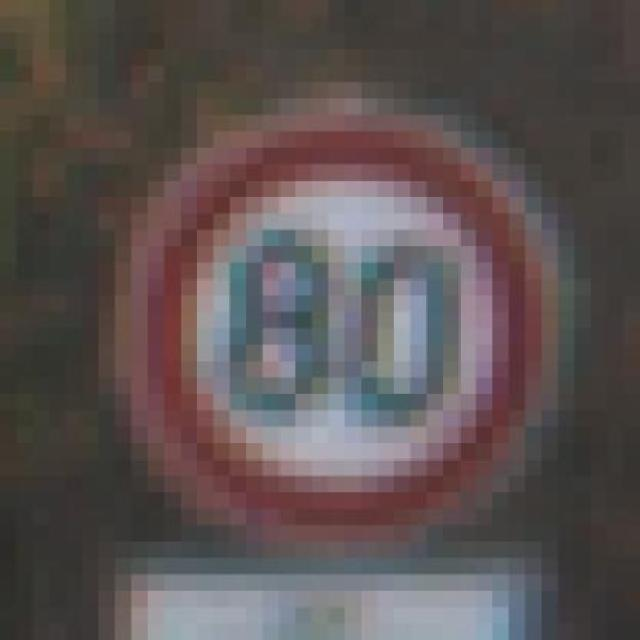forb_speed_over_80: (140, 124, 549, 535)
